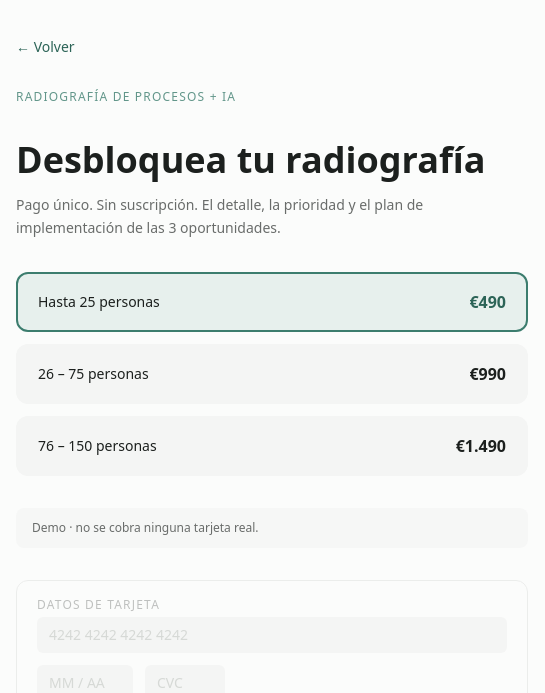
tier selection › clicking €1.490 tier updates the CTA to 'Pagar €1.490'
The width and height of the screenshot is (545, 693).
Click the text "€1.490".
click(481, 446)  # box x1=456 y1=434 x2=506 y2=458
(page scrolled)
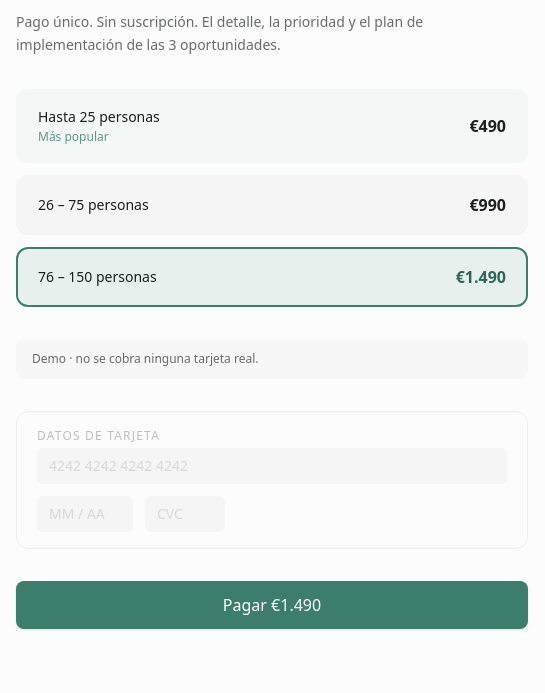
Result: the button "Pagar €1.490" is shown at x1=16 y1=580 x2=528 y2=628
